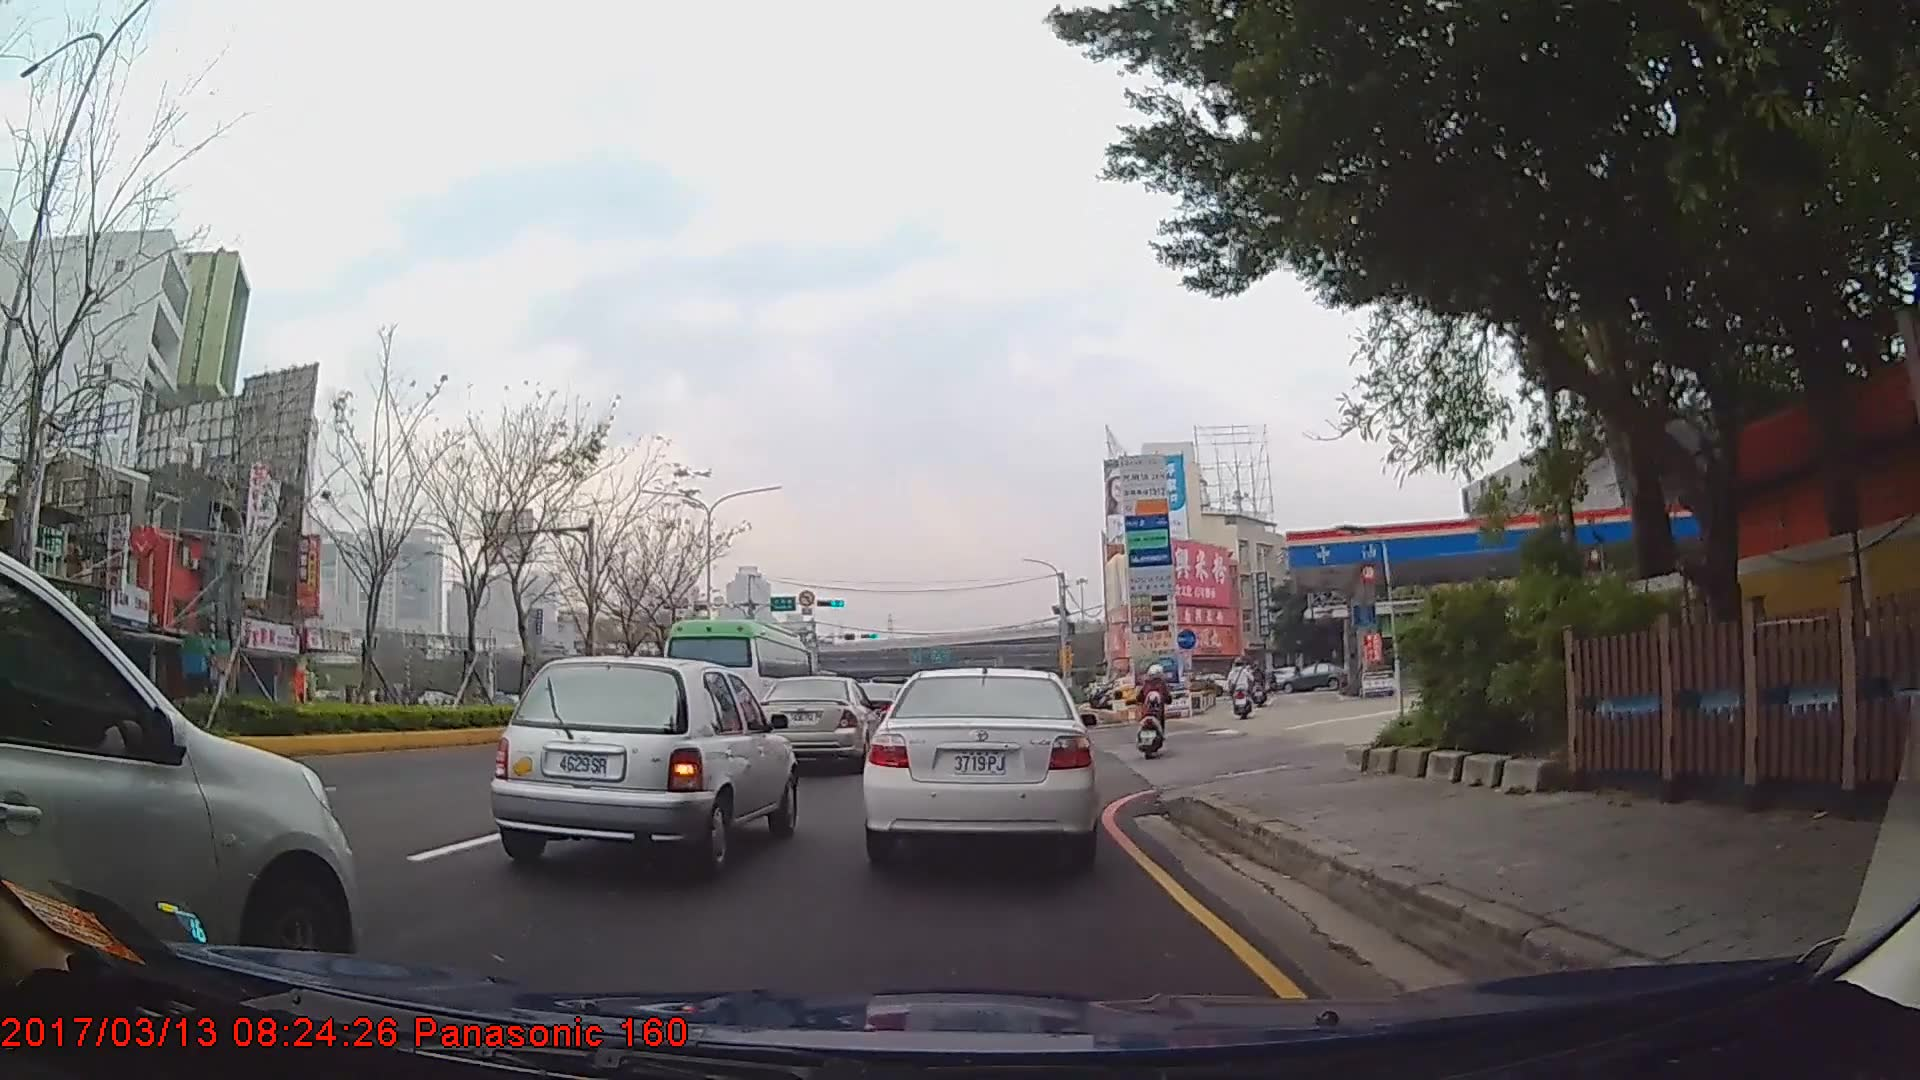rider: (1139, 667, 1172, 759), (1227, 658, 1256, 721)
vehicle: (0, 552, 360, 992), (490, 656, 800, 879), (860, 664, 1097, 869), (658, 617, 813, 742), (752, 675, 881, 770), (1279, 663, 1349, 693)
